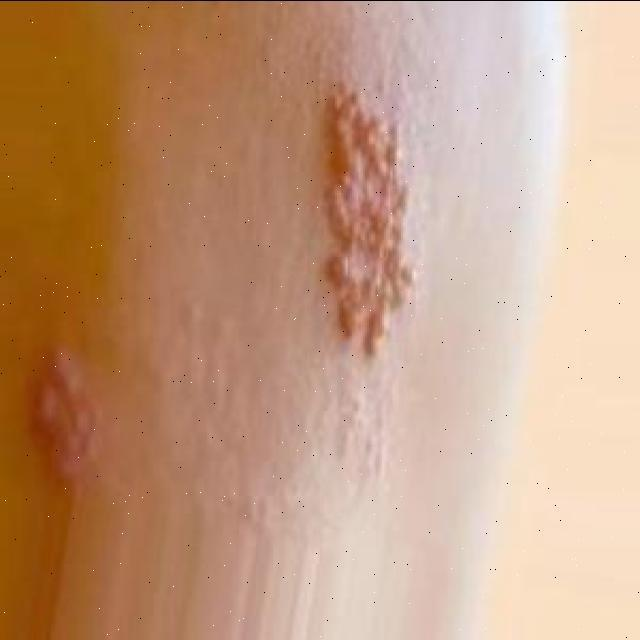Shingles: (320, 77, 420, 350), (29, 344, 96, 492)
